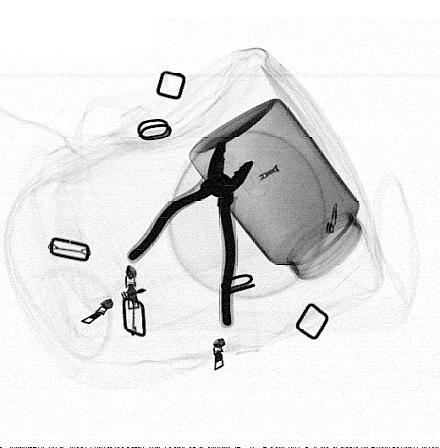Pliers: (125, 138, 257, 329)
